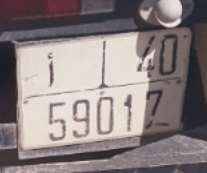0: (158, 31, 181, 78), (95, 96, 118, 138)
1: (122, 91, 140, 134)
4: (134, 33, 158, 80)
5: (47, 101, 69, 143)
7: (143, 88, 168, 134)
9: (70, 99, 93, 140)
a: (36, 49, 61, 92)
